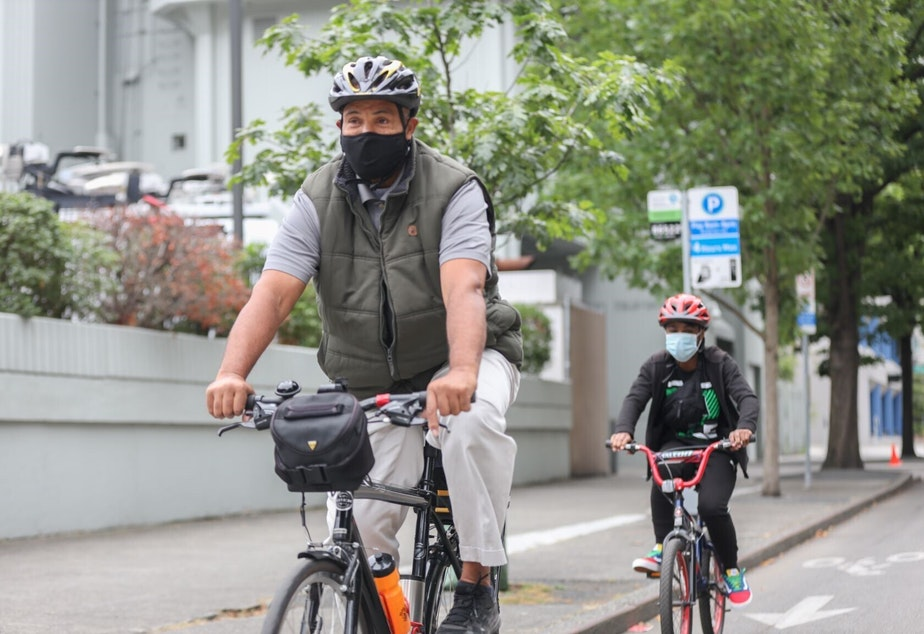helmet: (330, 57, 419, 181), (658, 293, 710, 363)
